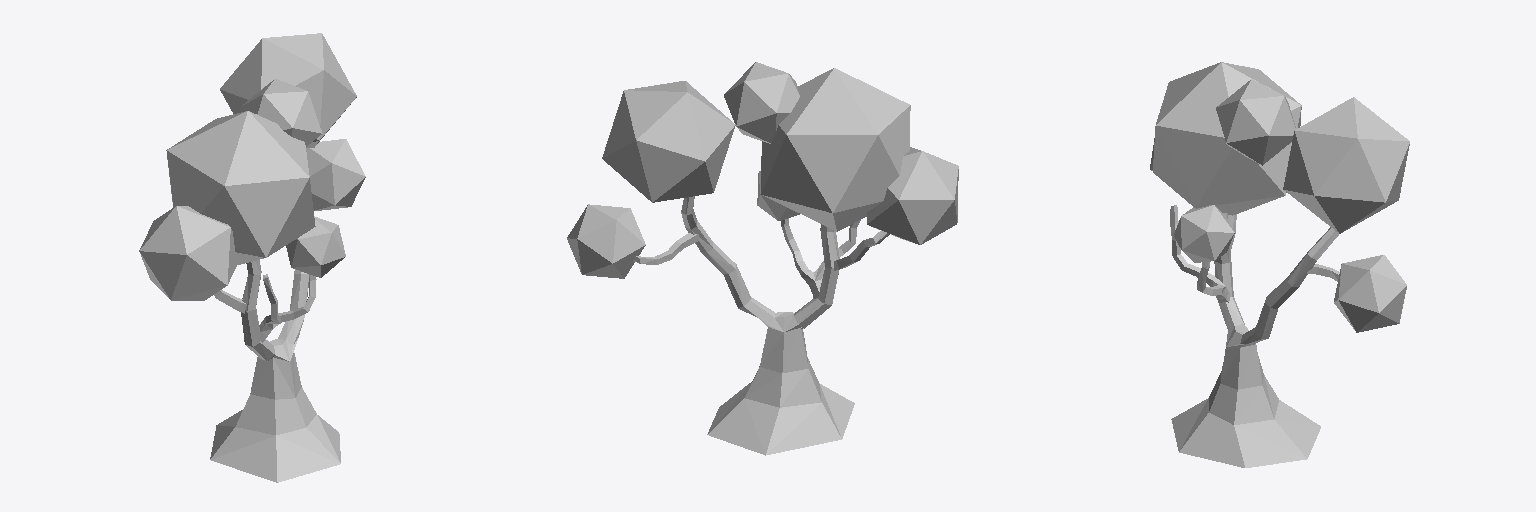
File: Tree.obj
3 views of the same model, side by side, from view 1: azimuth 30°, elevation 25°; view 2: azimuth 150°, elevation 25°; view 3: azimuth 270°, elevation 25° (orthographic).
Visible parts, largest first — view 1: Default initialShadingGroup initialShadingGroup1 polySurface1; view 2: Default initialShadingGroup initialShadingGroup1 polySurface1; view 3: Default initialShadingGroup initialShadingGroup1 polySurface1.
Part boxes in pixels (bbox=[...]): Default initialShadingGroup initialShadingGroup1 polySurface1: bbox=[139, 33, 365, 482]; Default initialShadingGroup initialShadingGroup1 polySurface1: bbox=[567, 62, 958, 455]; Default initialShadingGroup initialShadingGroup1 polySurface1: bbox=[1150, 62, 1409, 467].
Size of the model in its own units: 2.44 by 2.77 by 1.81.